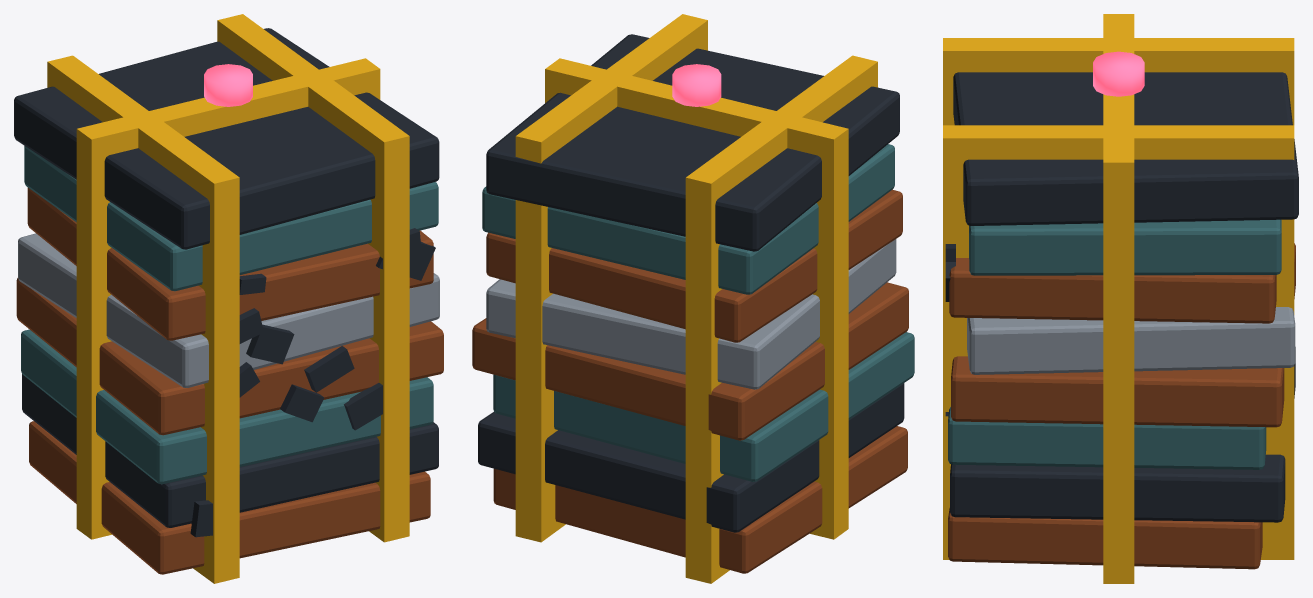
File: Barrier4.fbx
3 views of the same model, side by side, from view 1: azimuth 30°, elevation 25°; view 2: azimuth 150°, elevation 25°; view 3: azimuth 270°, elevation 25° (orthographic). The views are drawn at different scales.
Visible parts, largest first — view 1: Metal_Layer7, Hazard_Strap0, Hazard_Strap1, Hazard_Strap2, Teal_Layer2, Rust_Layer0, Rust_Layer3, Rust_Layer5, Metal_Layer1, Teal_Layer6, Steel_Layer4, Glow_Beacon0 (+7 smaller); view 2: Metal_Layer7, Hazard_Strap1, Hazard_Strap0, Hazard_Strap2, Rust_Layer3, Metal_Layer1, Steel_Layer4, Rust_Layer5, Teal_Layer2, Teal_Layer6, Rust_Layer0, Glow_Beacon0; view 3: Metal_Layer7, Hazard_Strap1, Hazard_Strap2, Rust_Layer3, Metal_Layer1, Steel_Layer4, Teal_Layer6, Rust_Layer5, Rust_Layer0, Teal_Layer2, Hazard_Strap0, Glow_Beacon0.
Part boxes in pixels (left/top/right/bottom): Metal_Layer7: left=14, top=28, right=439, bottom=249; Hazard_Strap0: left=47, top=55, right=239, bottom=583; Hazard_Strap1: left=217, top=14, right=409, bottom=542; Hazard_Strap2: left=76, top=58, right=380, bottom=539; Teal_Layer2: left=21, top=329, right=433, bottom=484; Rust_Layer0: left=29, top=421, right=430, bottom=574; Rust_Layer3: left=16, top=278, right=443, bottom=435; Rust_Layer5: left=27, top=187, right=433, bottom=340; Metal_Layer1: left=22, top=374, right=438, bottom=527; Teal_Layer6: left=24, top=146, right=438, bottom=291; Steel_Layer4: left=18, top=233, right=439, bottom=387; Glow_Beacon0: left=204, top=64, right=252, bottom=106; Metal_Layer7: left=486, top=34, right=899, bottom=251; Hazard_Strap1: left=515, top=14, right=707, bottom=542; Hazard_Strap0: left=685, top=55, right=877, bottom=583; Hazard_Strap2: left=545, top=58, right=848, bottom=539; Rust_Layer3: left=472, top=282, right=908, bottom=440; Metal_Layer1: left=478, top=383, right=904, bottom=532; Steel_Layer4: left=486, top=239, right=896, bottom=389; Rust_Layer5: left=486, top=189, right=902, bottom=342; Teal_Layer2: left=493, top=332, right=914, bottom=481; Teal_Layer6: left=482, top=144, right=894, bottom=294; Rust_Layer0: left=493, top=426, right=907, bottom=573; Glow_Beacon0: left=672, top=64, right=721, bottom=106; Metal_Layer7: left=953, top=72, right=1298, bottom=225; Hazard_Strap1: left=943, top=125, right=1294, bottom=559; Hazard_Strap2: left=1103, top=14, right=1134, bottom=583; Rust_Layer3: left=951, top=243, right=1295, bottom=427; Metal_Layer1: left=950, top=347, right=1295, bottom=522; Steel_Layer4: left=967, top=307, right=1295, bottom=374; Teal_Layer6: left=969, top=219, right=1281, bottom=275; Rust_Layer5: left=949, top=258, right=1276, bottom=323; Rust_Layer0: left=948, top=508, right=1262, bottom=569; Teal_Layer2: left=948, top=407, right=1266, bottom=469; Hazard_Strap0: left=943, top=38, right=1294, bottom=125; Glow_Beacon0: left=1093, top=51, right=1144, bottom=96.
Bounding box in the file's own units: 0.6904 × 0.6885 × 0.955.
